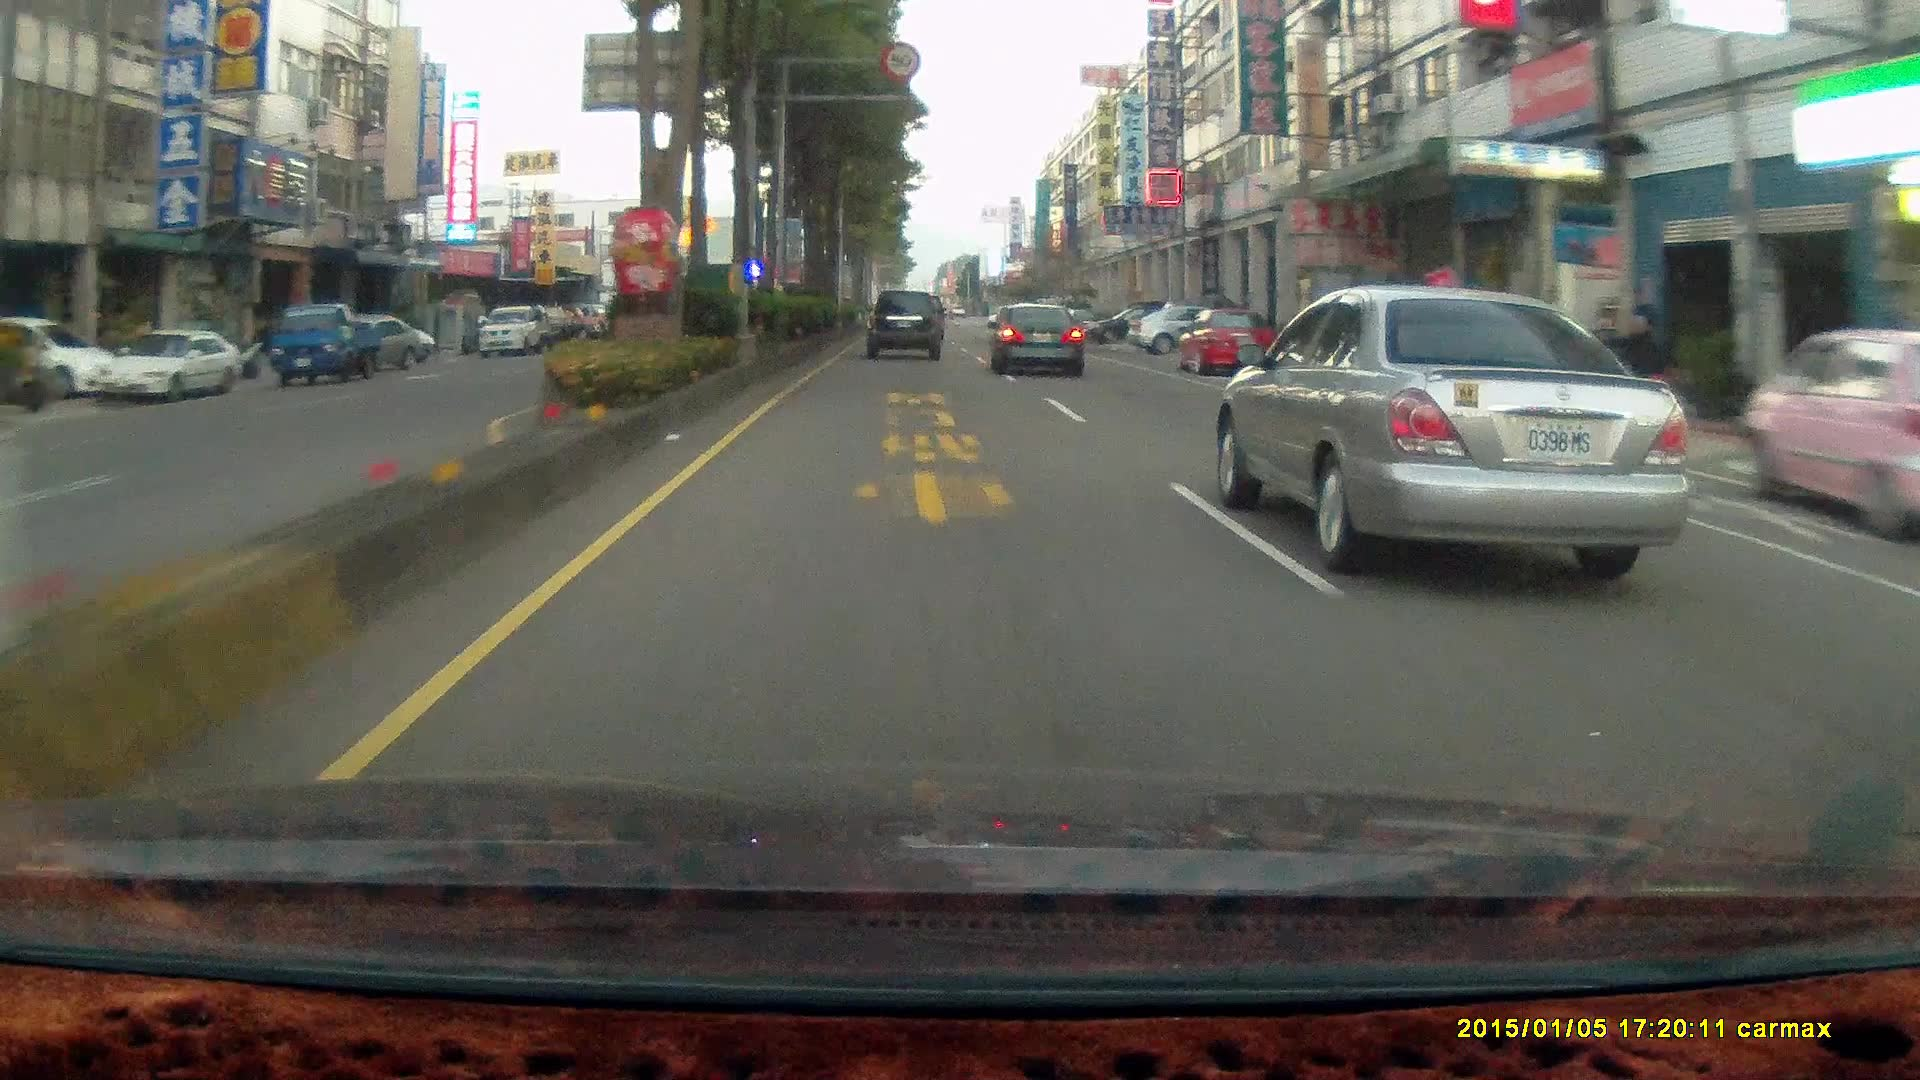vehicle: (1226, 286, 1712, 571), (1738, 326, 1920, 545), (1738, 328, 1920, 535), (1408, 293, 1615, 409), (92, 327, 239, 401), (0, 313, 121, 400), (94, 328, 240, 400), (266, 305, 396, 384), (269, 298, 381, 384), (986, 301, 1083, 377), (992, 301, 1088, 377), (1178, 309, 1275, 381), (1174, 306, 1269, 378), (1124, 295, 1245, 349), (866, 290, 949, 364), (316, 313, 419, 368), (862, 287, 942, 357), (477, 305, 546, 356), (1087, 305, 1174, 343)
